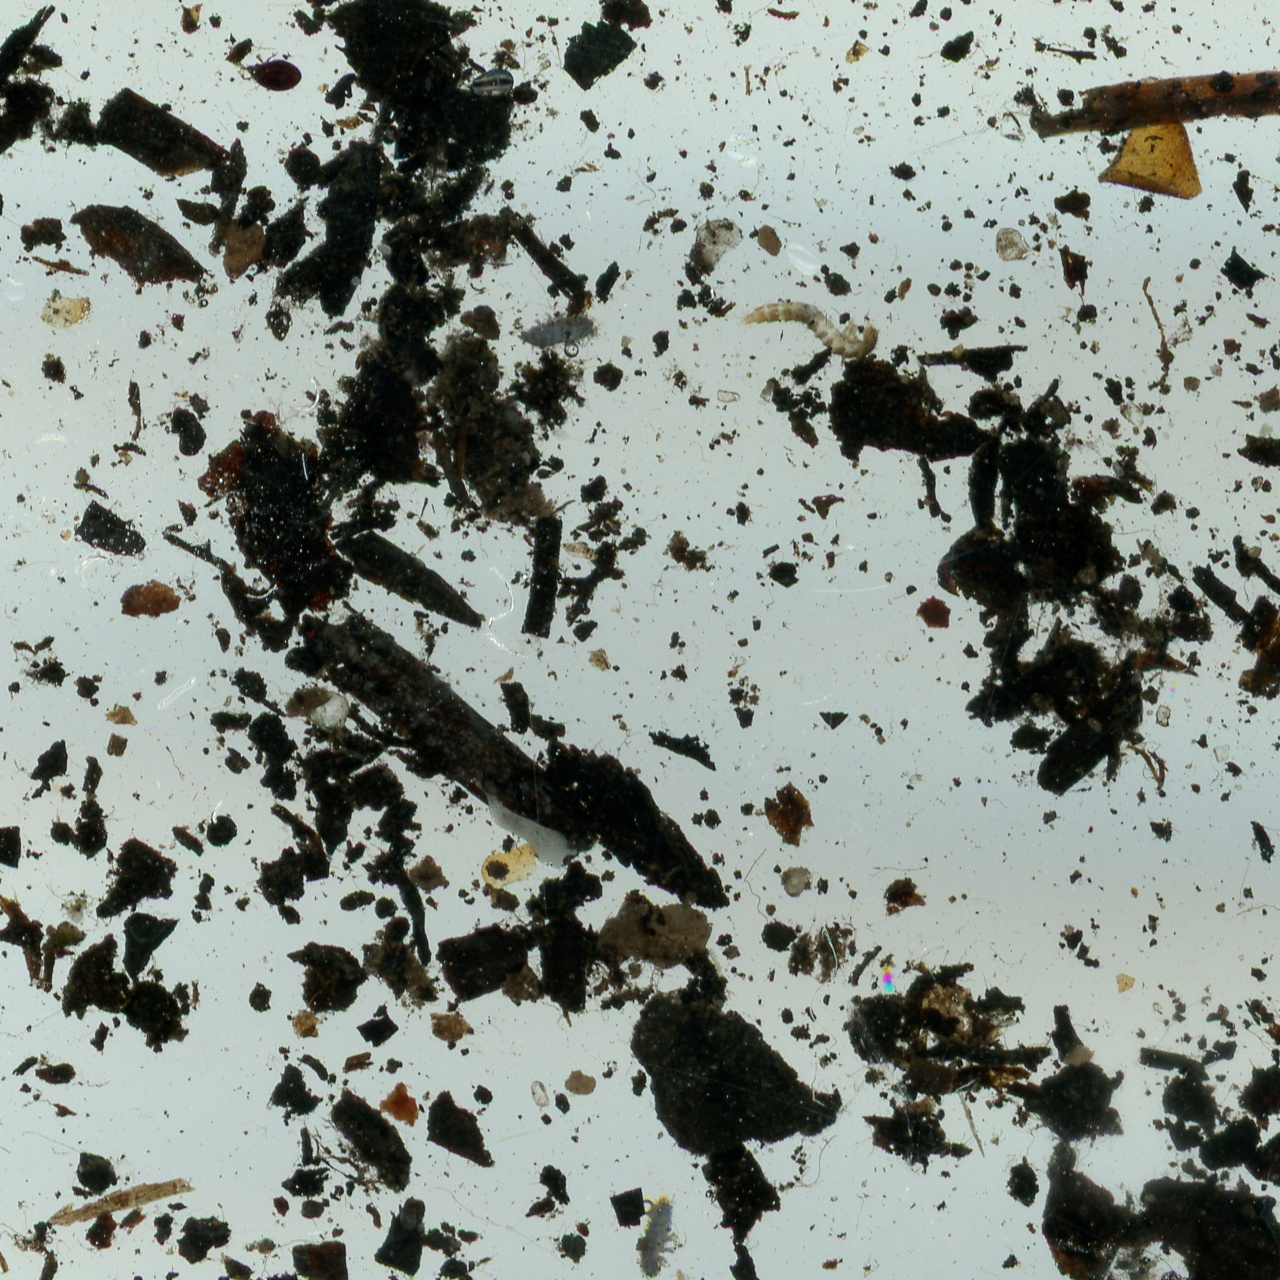arthropod: (736, 294, 881, 365), (629, 1186, 690, 1280), (515, 308, 600, 356), (237, 49, 305, 95)
